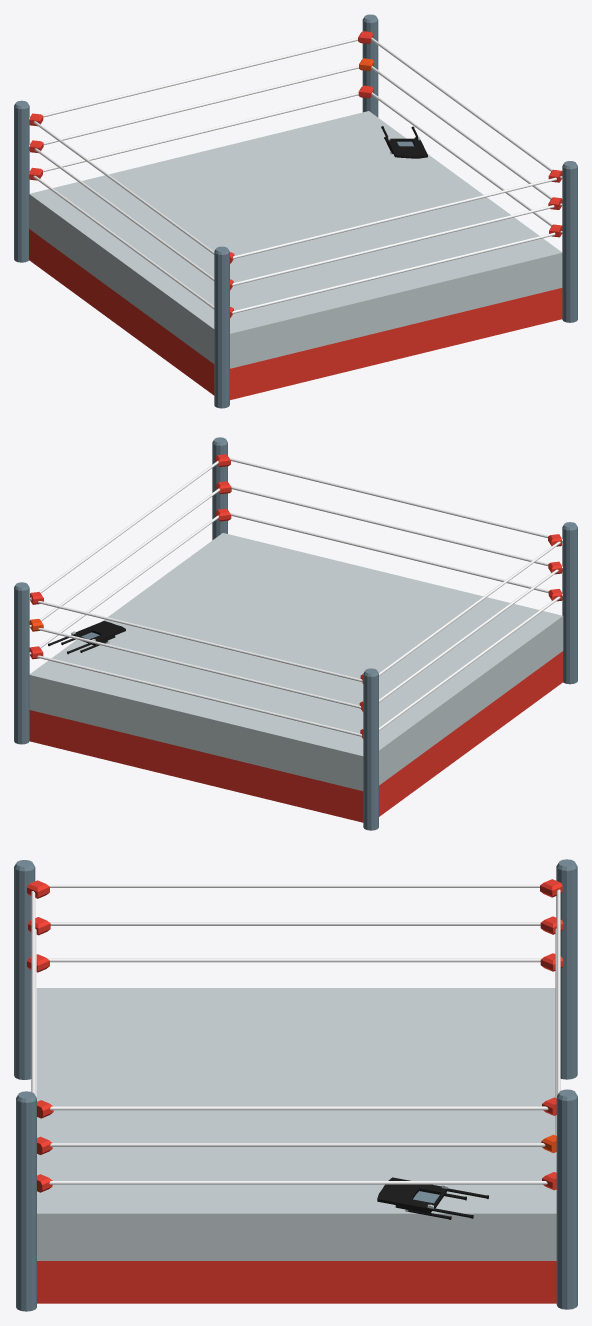
Rendered from boxingRing.glb.
3 renders of one model, top to bottom at view 1: azimuth 30°, elevation 25°; view 2: azimuth 150°, elevation 25°; view 3: azimuth 270°, elevation 25°, orthographic. The views are drawn at different scales.
Parts seen in each view (by area): view 1: group328789628, group163412692, group788371181, group368896621, group1642971909, group21080103, group317741549, group1181248648, group1003898359, group496071842, group916318022, group1052058101 (+6 smaller); view 2: group328789628, group1642971909, group368896621, group788371181, group163412692, group916318022, group1003898359, group496071842, group21080103, group1181248648, group317741549, group1052058101 (+6 smaller); view 3: group328789628, group1642971909, group163412692, group788371181, group368896621, group1911749381, group1593321500, group1052058101, group456450225, group1821265527, group927043435, group1948876350 (+2 smaller).
Part boxes in pixels (box(x1,y1,x2,y2)): group328789628: box(29, 111, 562, 399); group163412692: box(548, 161, 577, 322); group788371181: box(14, 100, 43, 262); group368896621: box(214, 246, 234, 408); group1642971909: box(358, 14, 378, 117); group21080103: box(232, 177, 556, 258); group317741549: box(232, 232, 555, 313); group1181248648: box(232, 205, 554, 285); group1003898359: box(42, 38, 357, 117); group496071842: box(43, 65, 358, 144); group916318022: box(42, 92, 358, 172); group1052058101: box(381, 126, 427, 158); group328789628: box(29, 533, 563, 822); group1642971909: box(14, 582, 43, 744); group368896621: box(548, 522, 577, 684); group788371181: box(359, 668, 378, 830); group163412692: box(212, 437, 231, 540); group916318022: box(37, 655, 362, 736); group1003898359: box(38, 601, 362, 682); group496071842: box(38, 628, 361, 708); group21080103: box(229, 458, 548, 538); group1181248648: box(231, 486, 548, 566); group317741549: box(230, 513, 548, 593); group1052058101: box(48, 621, 125, 654); group328789628: box(36, 988, 556, 1303); group1642971909: box(541, 1089, 577, 1309); group163412692: box(16, 1091, 53, 1311); group788371181: box(540, 859, 577, 1079); group368896621: box(14, 860, 50, 1079); group1911749381: box(50, 1106, 548, 1110); group1593321500: box(48, 958, 541, 962); group1052058101: box(377, 1177, 488, 1219); group456450225: box(49, 1181, 547, 1184); group1821265527: box(50, 1143, 545, 1146); group927043435: box(47, 884, 540, 887); group1948876350: box(49, 922, 541, 925).
Size of the model in its own units: 7.53 by 3.1 by 7.42.
